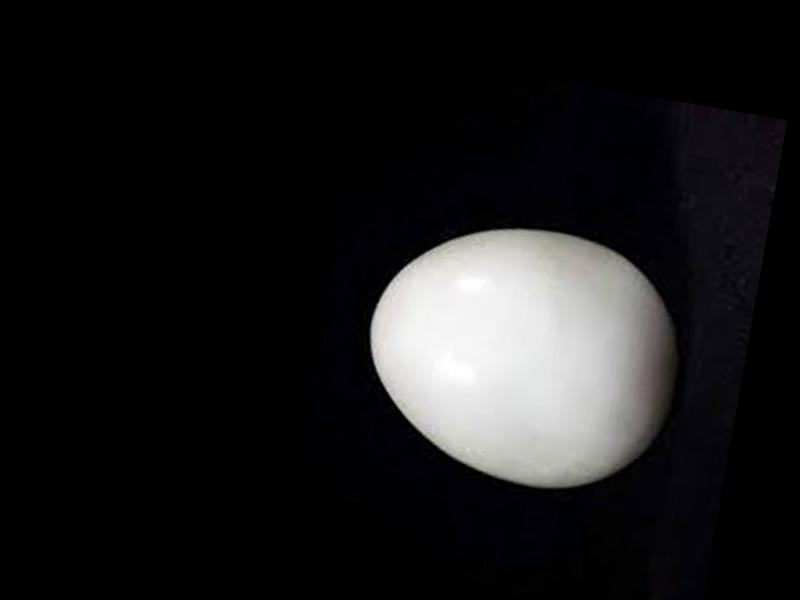Eggs: (351, 206, 700, 504)
